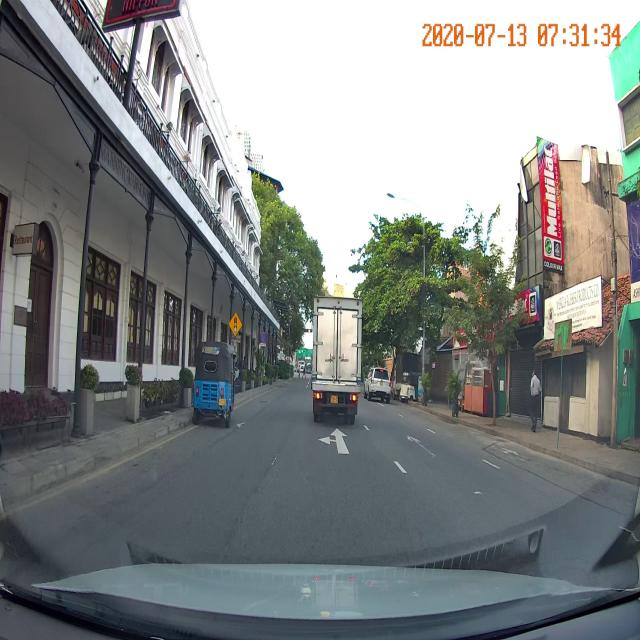forward_lft: (251, 421, 422, 488)
